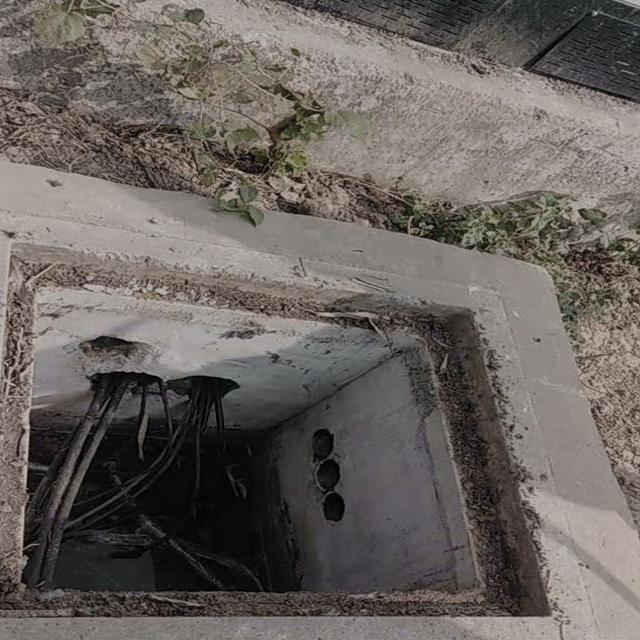lose: (0, 206, 609, 640)
